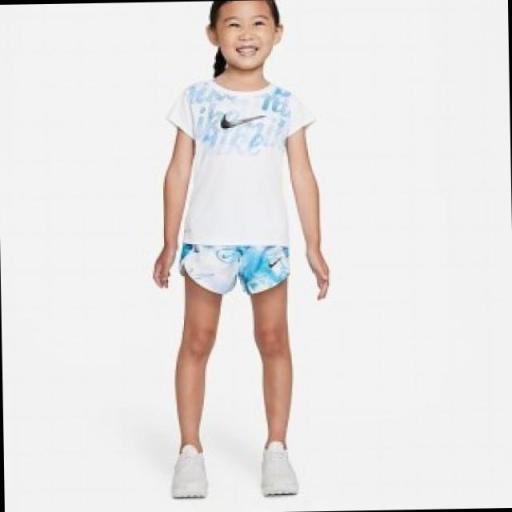Nike: (215, 108, 272, 134)
